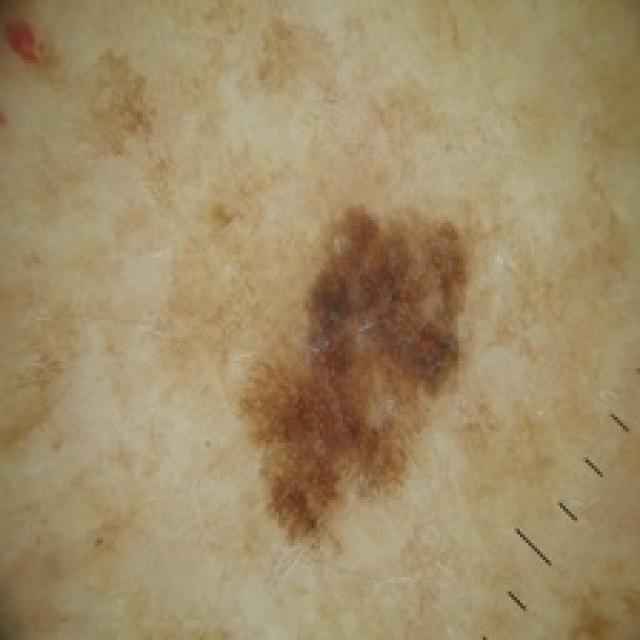cancer: (234, 185, 481, 532)
